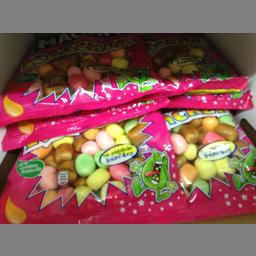candy: (2, 126, 180, 222)
